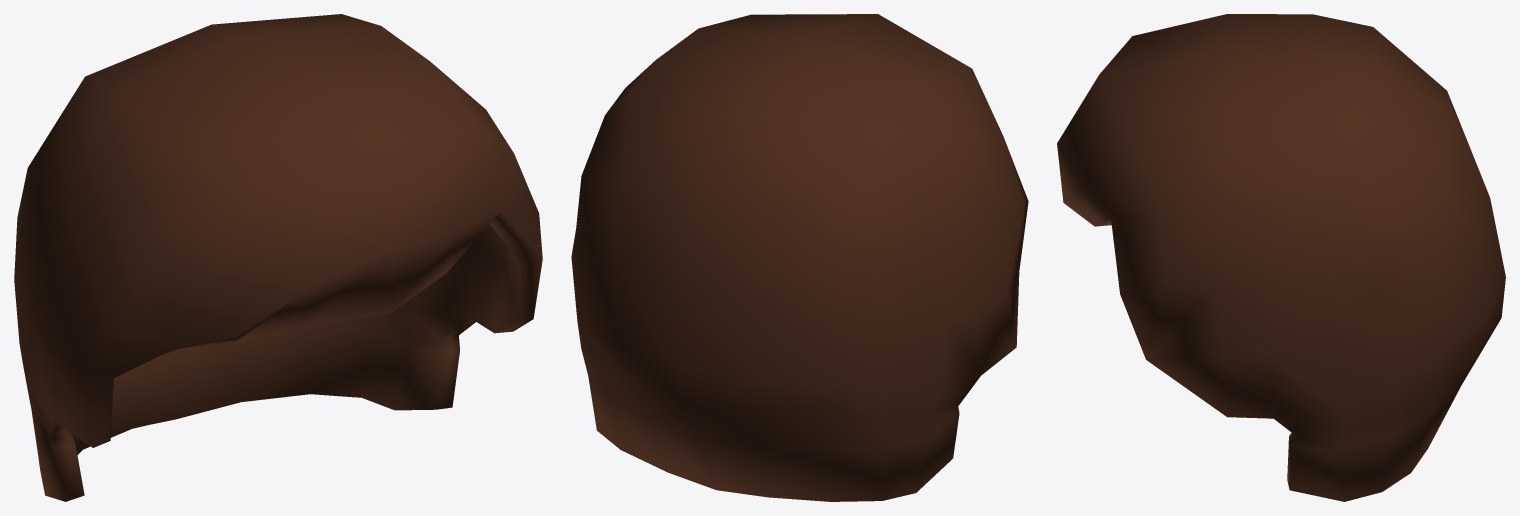
The model's file is aa-hair-short-vanilla.glb.
3 views of the same model, side by side, from view 1: azimuth 30°, elevation 25°; view 2: azimuth 150°, elevation 25°; view 3: azimuth 270°, elevation 25° (orthographic). The views are drawn at different scales.
Visible parts, largest first — view 1: hairShortVanilla; view 2: hairShortVanilla; view 3: hairShortVanilla.
Boxes of the visible parts, x1,y1,x2,y2 form: hairShortVanilla: (14,14,542,501); hairShortVanilla: (571,14,1028,501); hairShortVanilla: (1057,14,1505,501).
Size of the model in its own units: 0.4773 by 0.4522 by 0.4874.
Materials: 1 (1 with a texture image).
